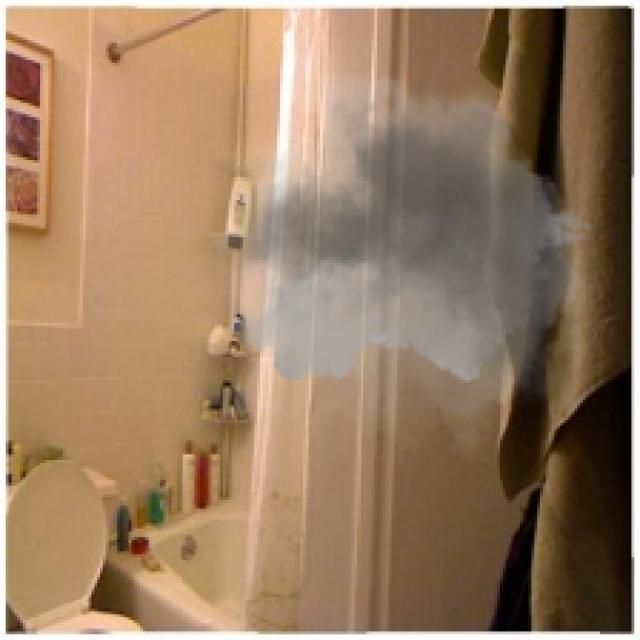Smoke: (214, 51, 606, 466)
